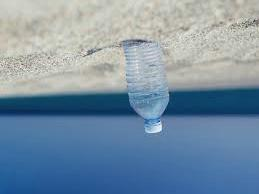Plastic: (106, 30, 179, 148)
